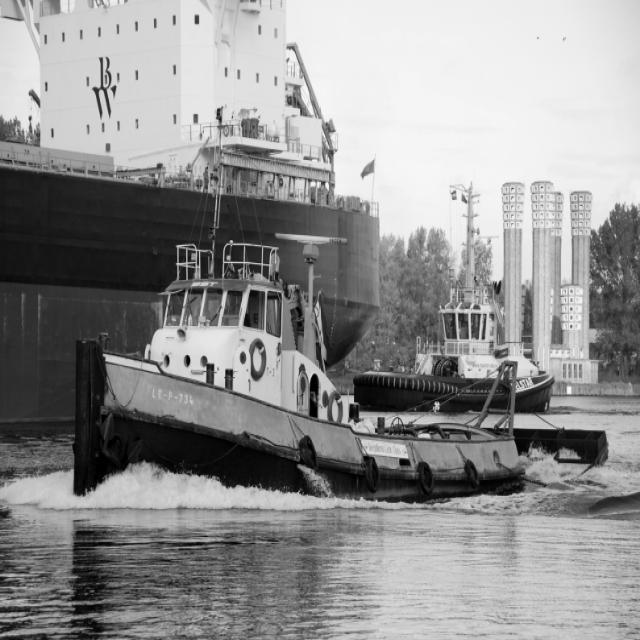tugboat: (70, 225, 533, 526)
